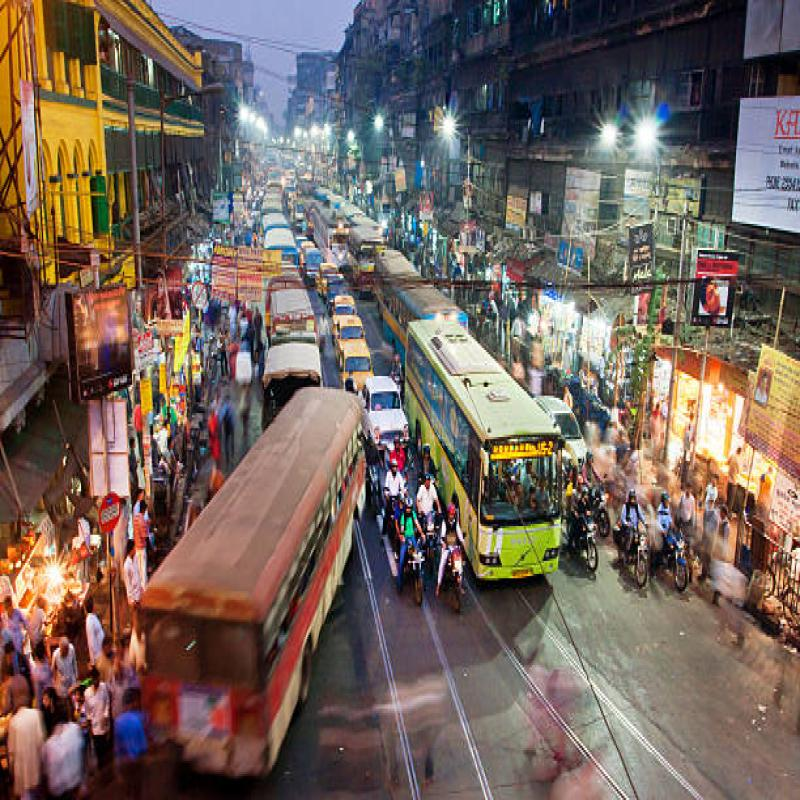bus: (158, 421, 361, 618), (394, 323, 558, 559)
car: (337, 324, 376, 386)
